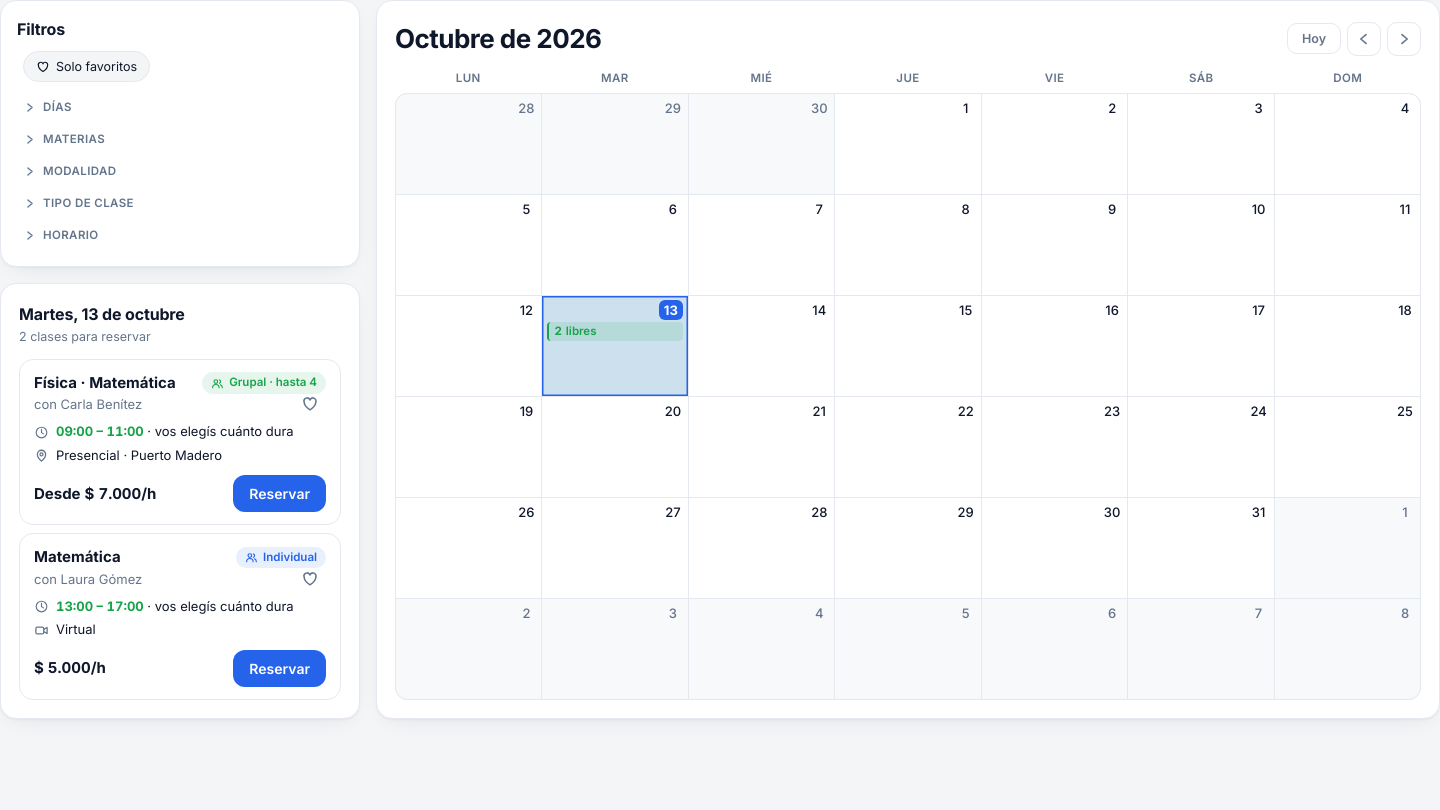
Scenario: BookingBoard › filtra por modalidad y por tipo de clase
Click the button "Modalidad": coordinates (80, 171) [17,156,343,186]
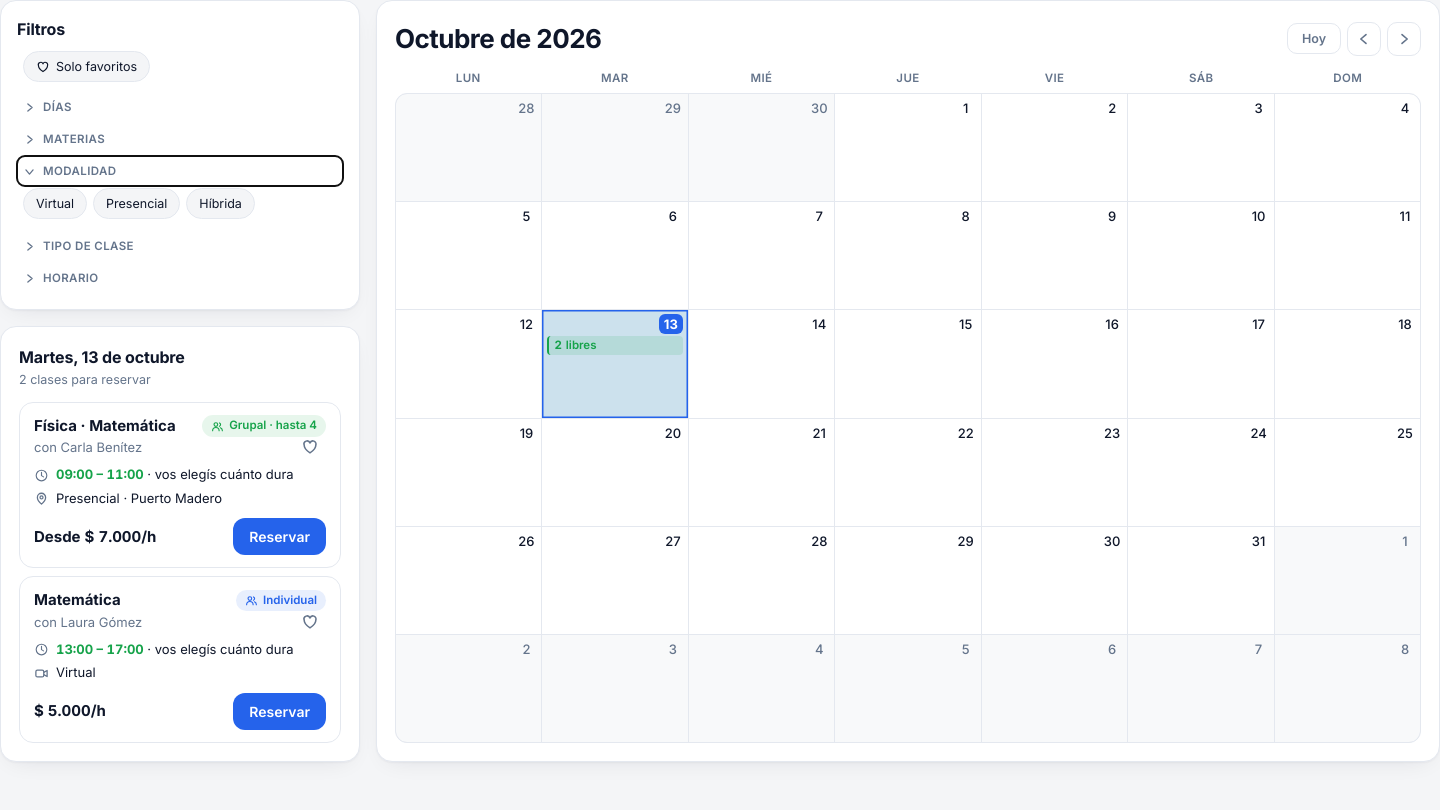
Click the button "Presencial": coordinates (137, 204) [93,188,180,219]
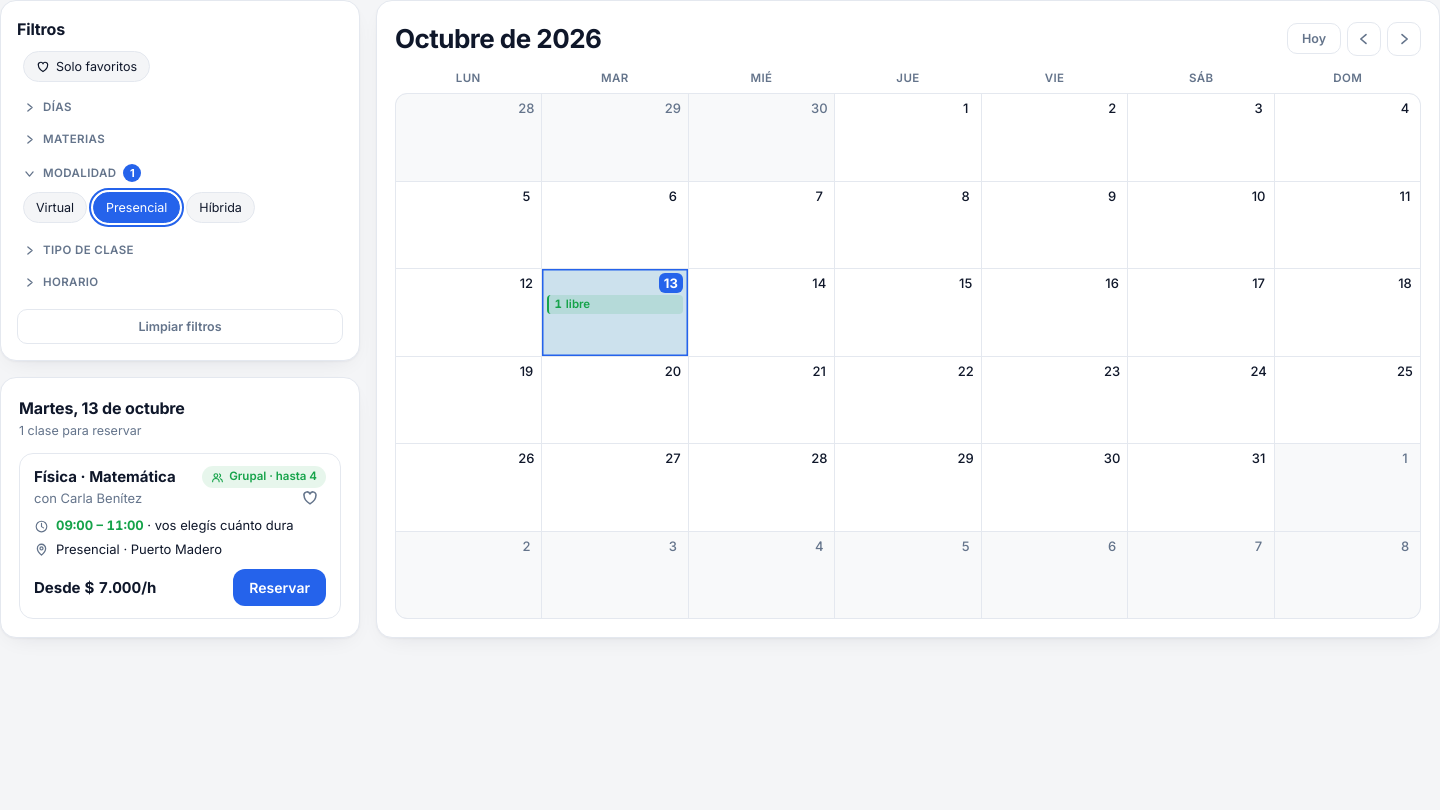
expect the text "09:00 – 11:00" is shown: met, box [56,517,144,533]
expect the text "13:00 – 17:00" is gone: met
Click the button "Tipo de clase": coordinates (88, 250) [17,235,343,265]
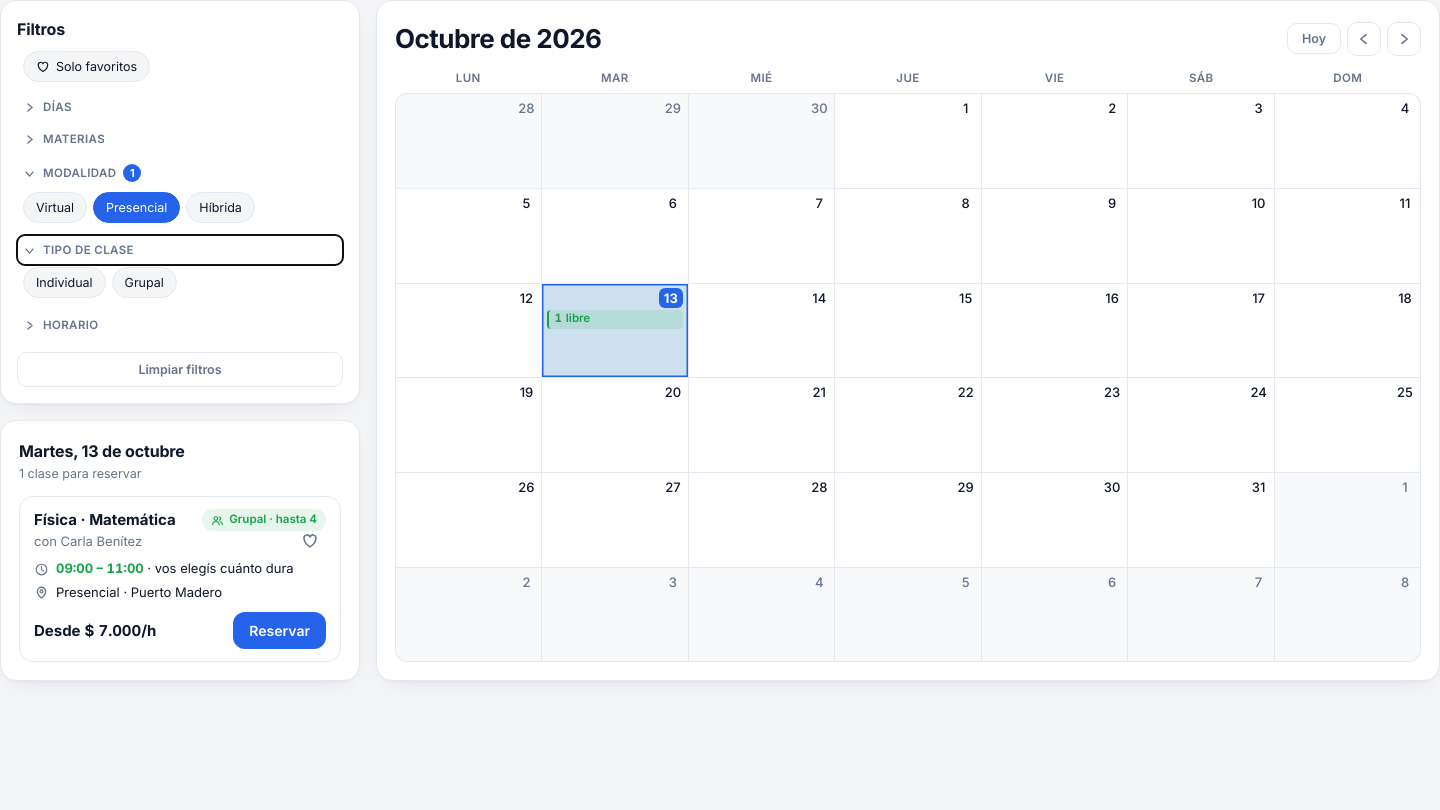
Click the button "Individual": coordinates (64, 282) [23,267,106,298]
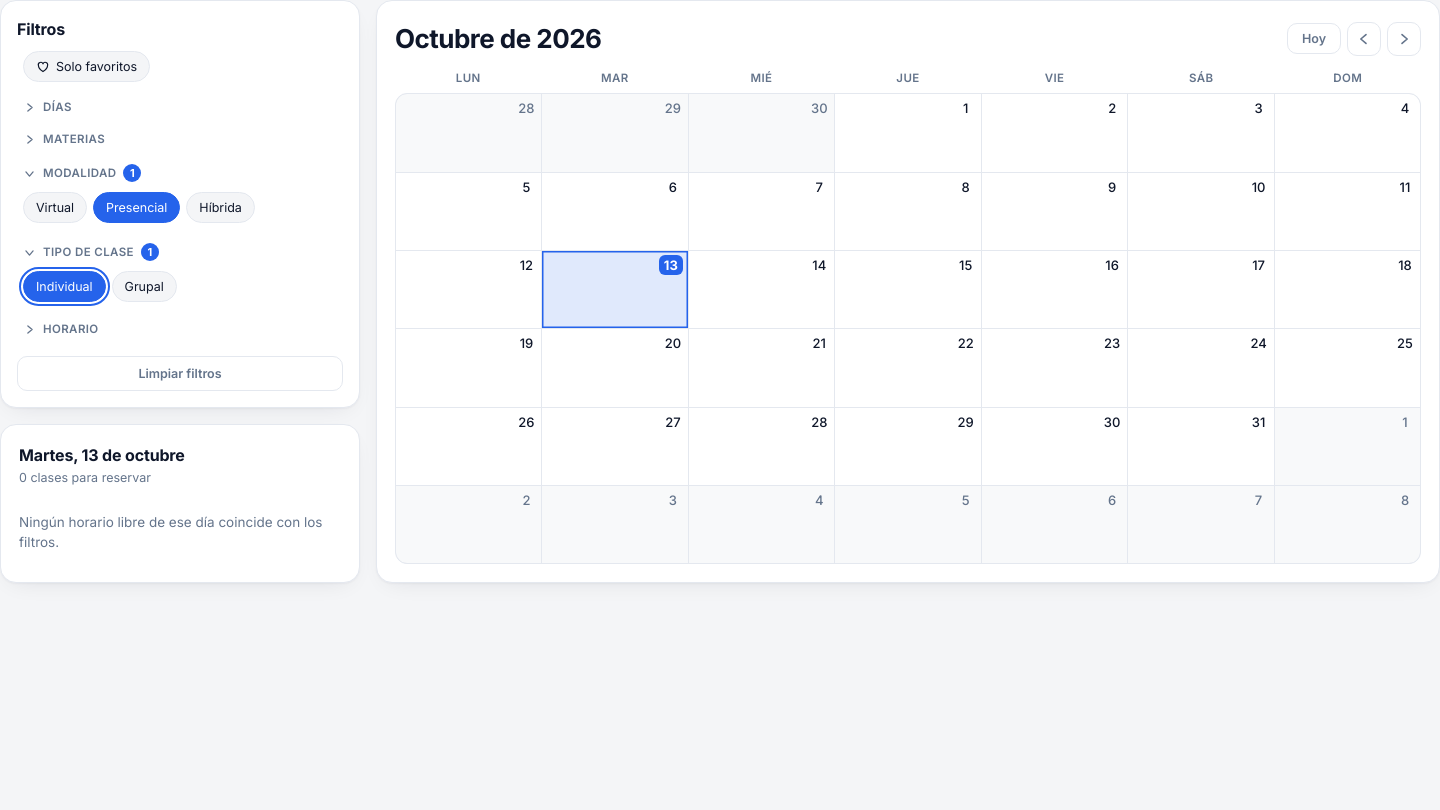
expect the text "09:00 – 11:00" is gone: met
